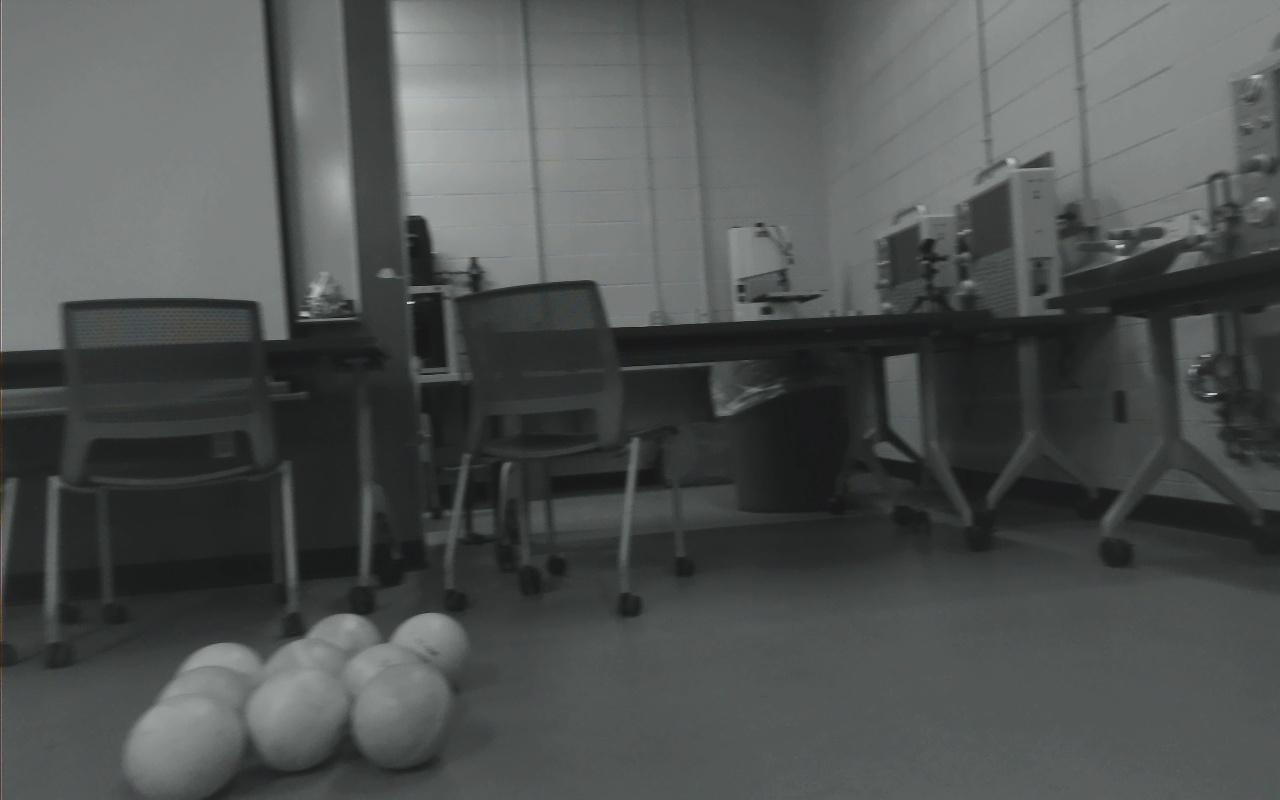Fuel: (122, 693, 246, 800), (244, 665, 349, 771), (349, 662, 452, 769), (155, 663, 253, 750), (262, 638, 349, 709), (342, 641, 426, 713), (388, 612, 470, 684), (177, 642, 264, 708), (305, 612, 381, 676)
